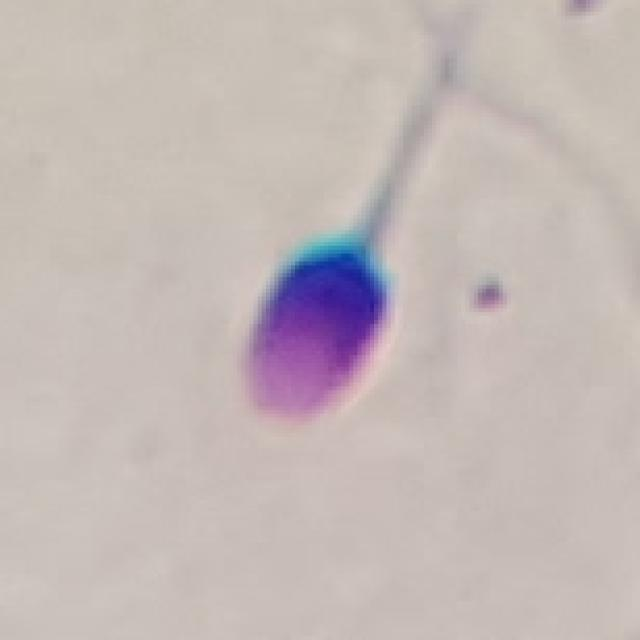normal sperm: (243, 148, 413, 424)
